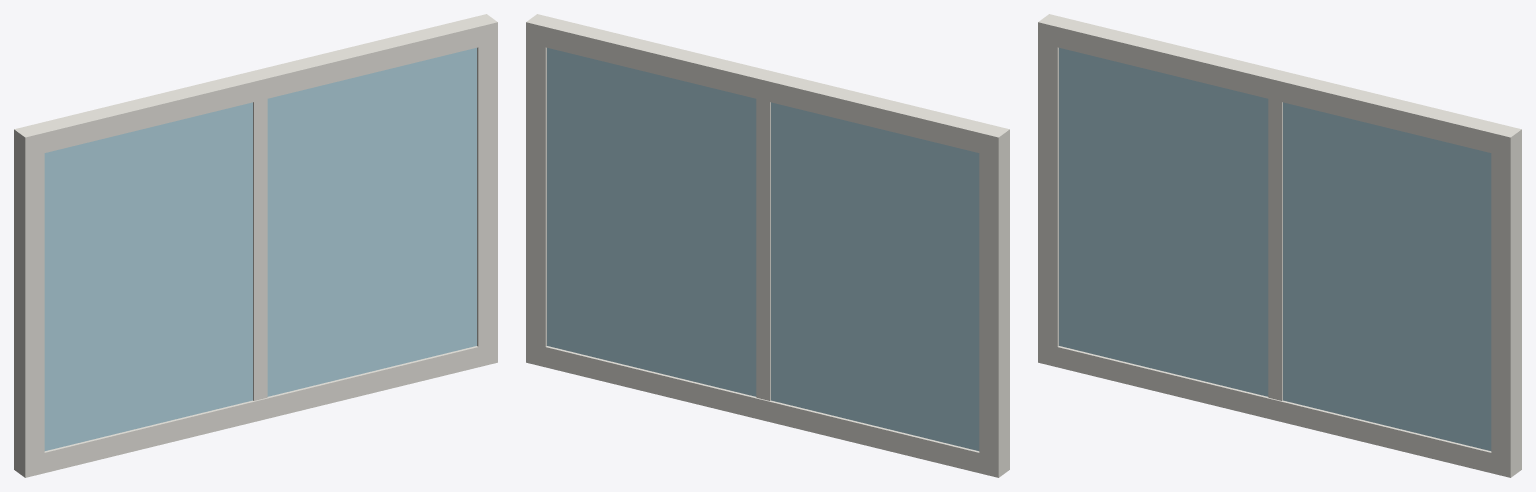
The model's file is Window.fbx.
The picture shows the model from 3 angles, left to right: view 1: azimuth 30°, elevation 25°; view 2: azimuth 150°, elevation 25°; view 3: azimuth 330°, elevation 25°; orthographic projection.
Visible parts, largest first — view 1: Window_Mesh; view 2: Window_Mesh; view 3: Window_Mesh.
Boxes of the visible parts, x1,y1,x2,y2 form: Window_Mesh: (14, 14, 497, 477); Window_Mesh: (526, 14, 1009, 477); Window_Mesh: (1038, 14, 1521, 477).
Size of the model in its own units: 3.4 by 2.34 by 0.14.
Materials: 1 (1 with a texture image).
